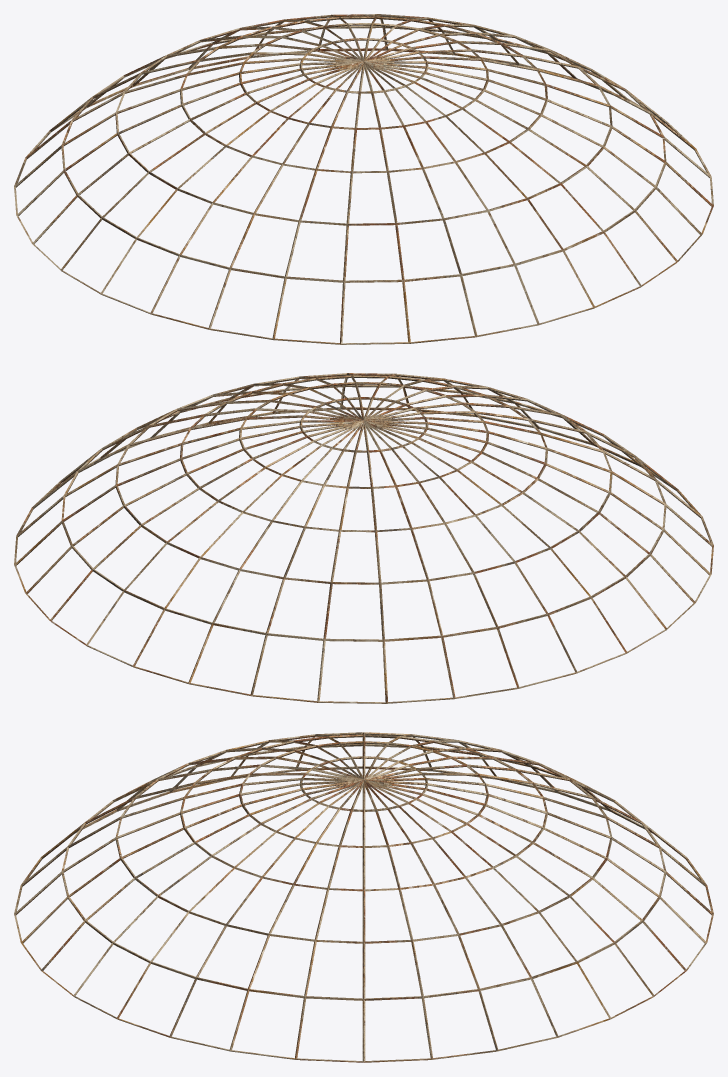
File: mamoa.glb
3 renders of one model, top to bottom at view 1: azimuth 30°, elevation 25°; view 2: azimuth 150°, elevation 25°; view 3: azimuth 270°, elevation 25°, orthographic.
Visible parts, largest first — view 1: Sphere; view 2: Sphere; view 3: Sphere.
Boxes of the visible parts, box(x1,y1,x2,y2) form: Sphere: box(14, 14, 713, 344); Sphere: box(14, 373, 713, 703); Sphere: box(14, 732, 713, 1062).
Size of the model in its own units: 22.37 by 4.79 by 22.37.
1 material, 1 textured.
